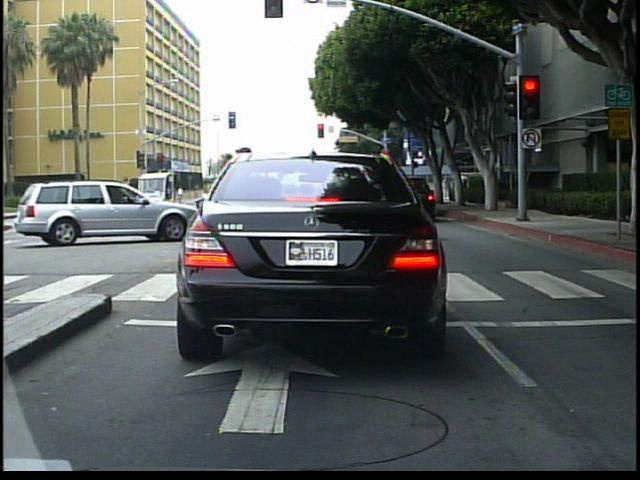person: (235, 147, 275, 284), (209, 145, 241, 283), (443, 176, 453, 206)
